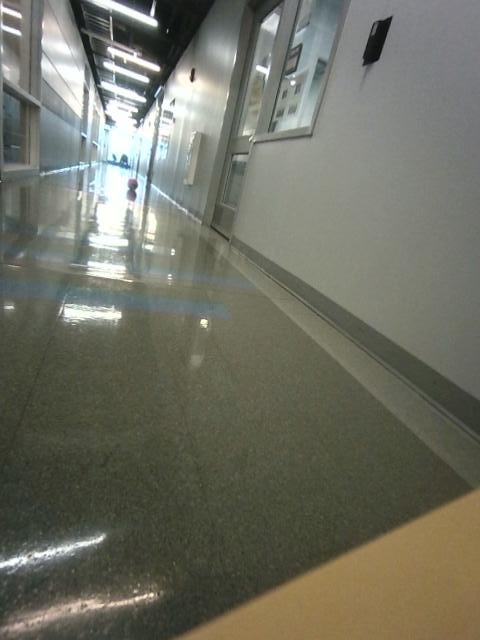ball: (128, 178, 137, 189)
